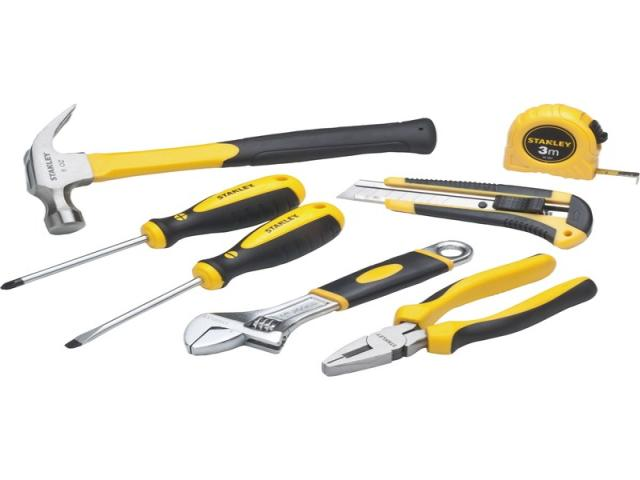Adjustable spanner: (184, 241, 471, 355)
Hammer: (25, 106, 436, 234)
Pliers: (322, 254, 598, 376)
Screwdriver: (65, 203, 344, 347), (0, 174, 305, 289)
Utility knife: (338, 177, 592, 249), (506, 104, 638, 182)
